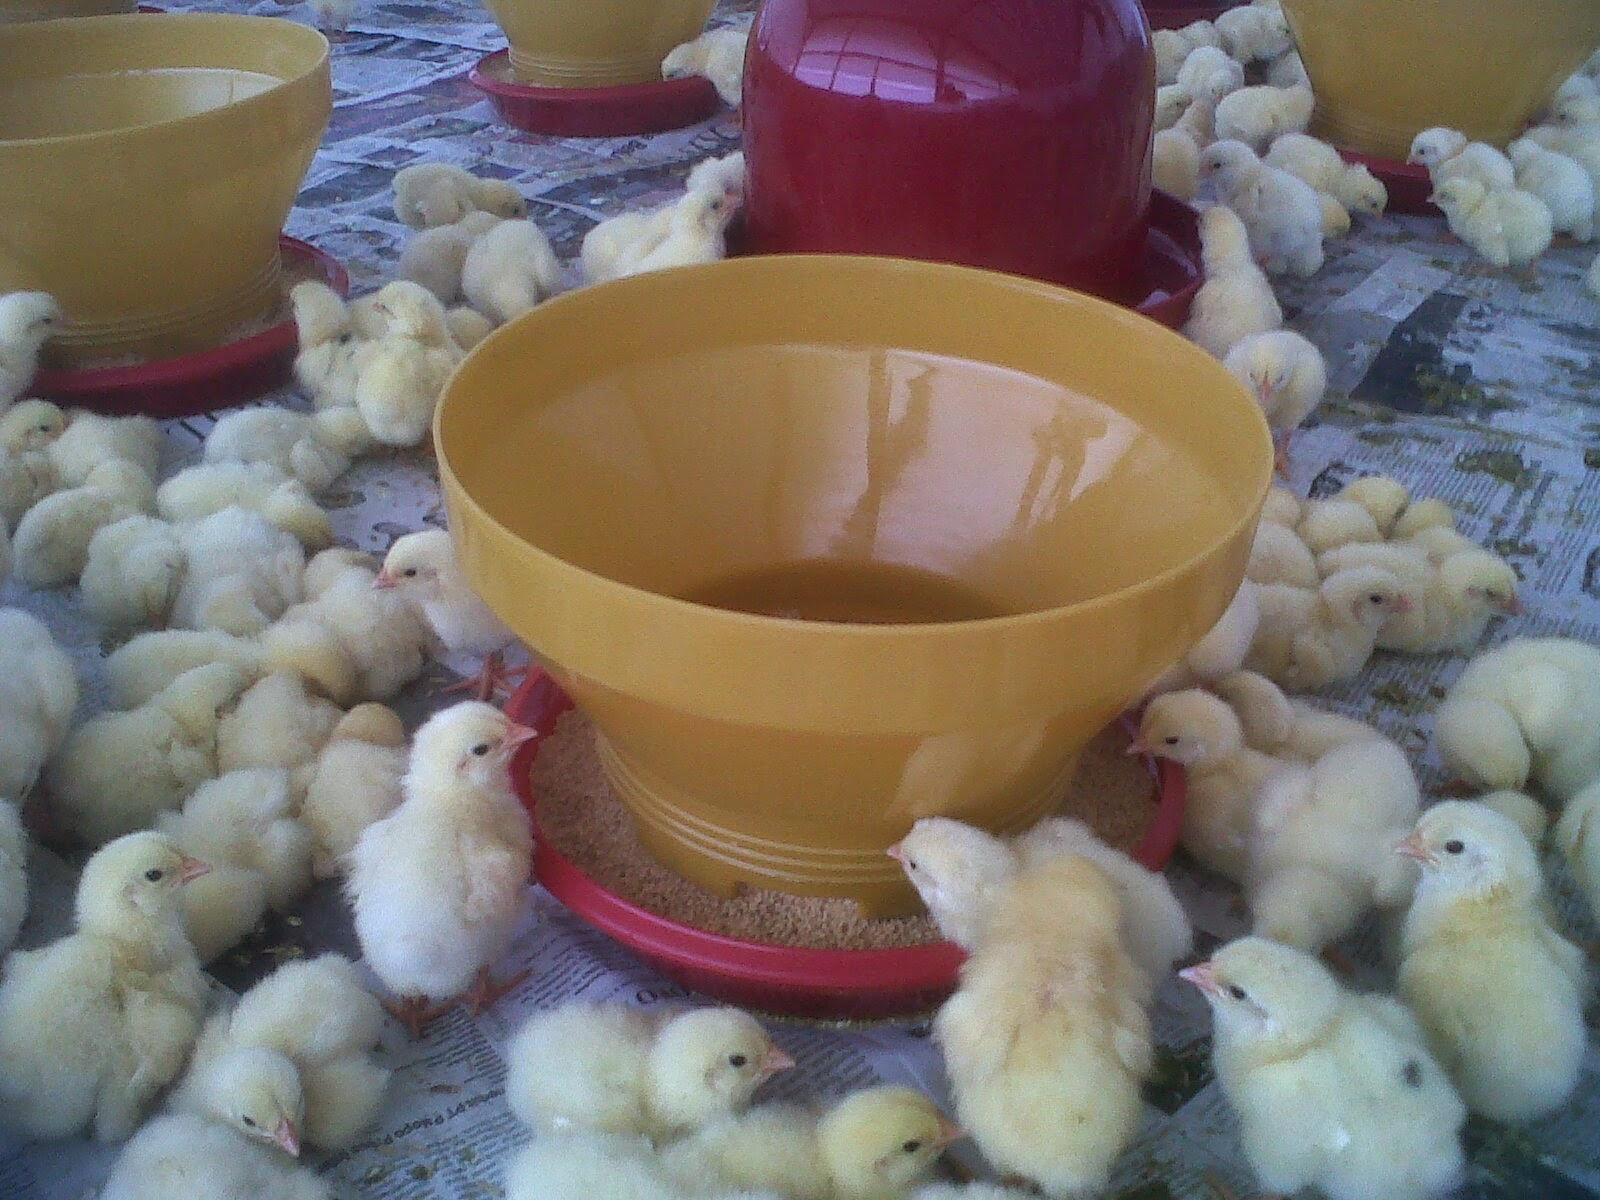chicken: (1188, 945, 1465, 1191), (956, 857, 1155, 1172), (4, 832, 205, 1128), (355, 695, 540, 1007), (1402, 800, 1592, 1103), (892, 818, 1184, 950), (523, 1005, 795, 1132), (1267, 745, 1421, 925), (233, 953, 370, 1122), (1143, 687, 1285, 839), (375, 527, 518, 672), (1250, 565, 1417, 671), (1337, 547, 1534, 637), (1432, 175, 1555, 265), (1402, 125, 1517, 182)
